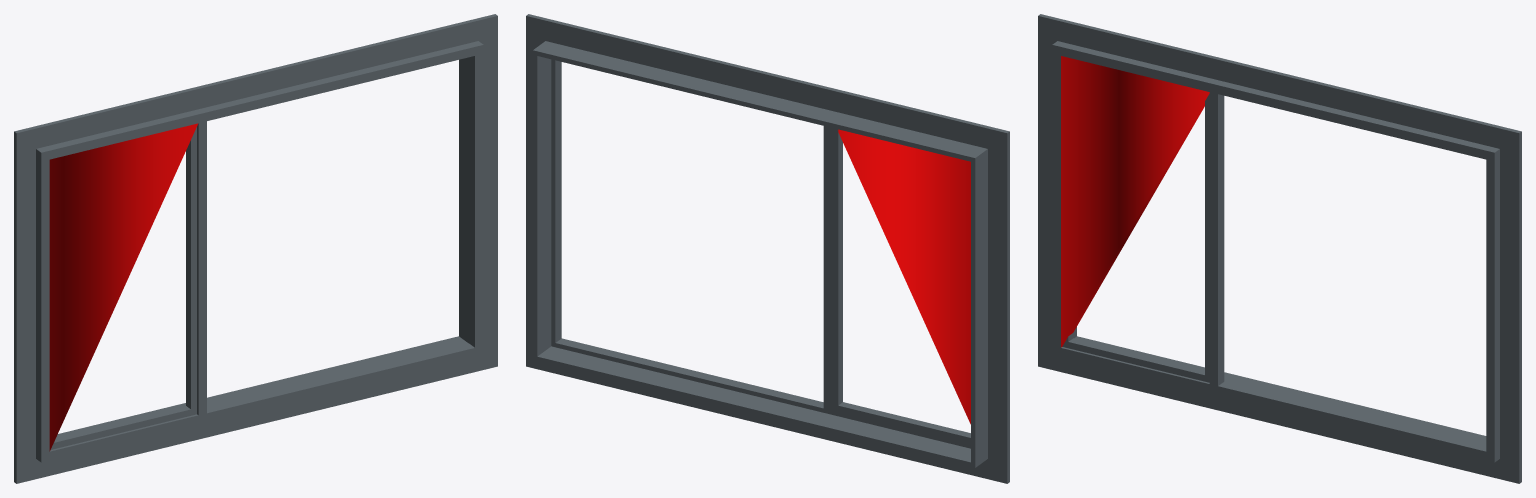
File: Window05.fbx
3 renders of one model, left to right at view 1: azimuth 30°, elevation 25°; view 2: azimuth 150°, elevation 25°; view 3: azimuth 330°, elevation 25°, orthographic.
Parts seen in each view (by area): view 1: Window05; view 2: Window05; view 3: Window05.
Part boxes in pixels (x1,y1,x2,y2): Window05: (14, 14, 497, 483); Window05: (526, 14, 1009, 483); Window05: (1038, 14, 1521, 483).
Bounding box in the file's own units: 205 × 142 × 15.02.
